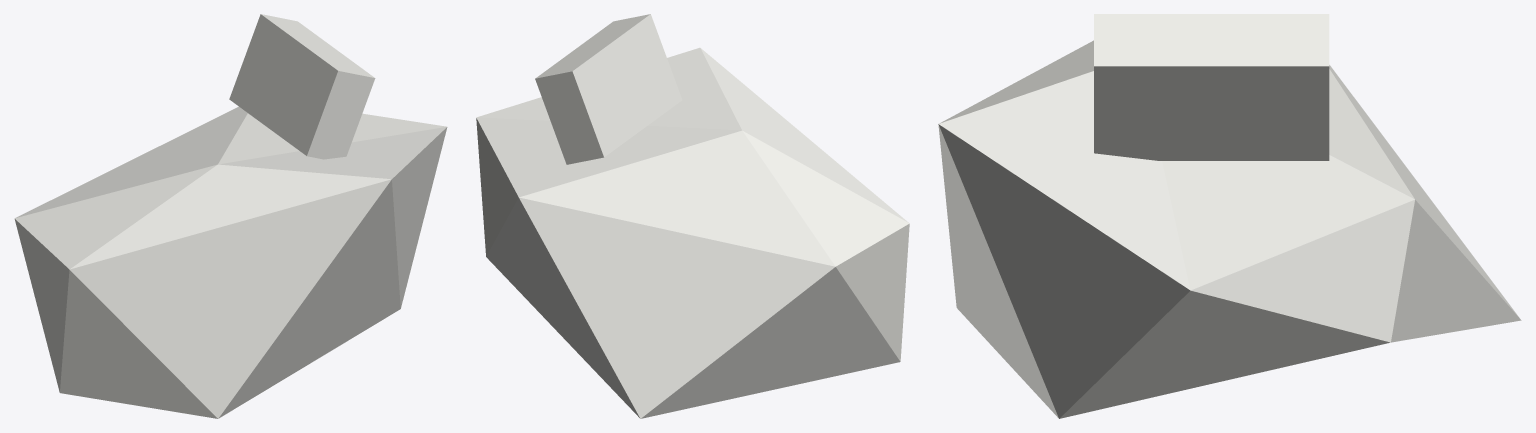
File: Trash_PlasticBag.fbx
3 renders of one model, left to right at view 1: azimuth 30°, elevation 25°; view 2: azimuth 150°, elevation 25°; view 3: azimuth 270°, elevation 25°, orthographic. The views are drawn at different scales.
Parts seen in each view (by area): view 1: Trash_PlasticBag; view 2: Trash_PlasticBag; view 3: Trash_PlasticBag.
Boxes of the visible parts, x1,y1,x2,y2 form: Trash_PlasticBag: (14, 14, 447, 418); Trash_PlasticBag: (476, 14, 909, 418); Trash_PlasticBag: (938, 14, 1521, 418).
Size of the model in its own units: 0.3006 by 0.2009 by 0.2479.
